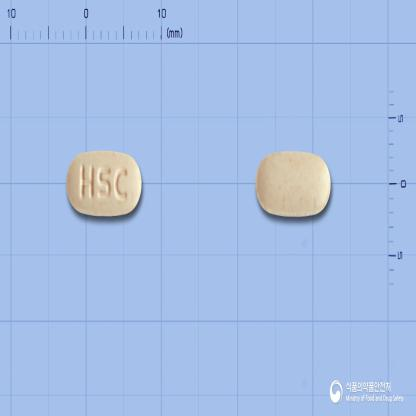pill: (65, 148, 142, 216), (254, 151, 332, 216)
